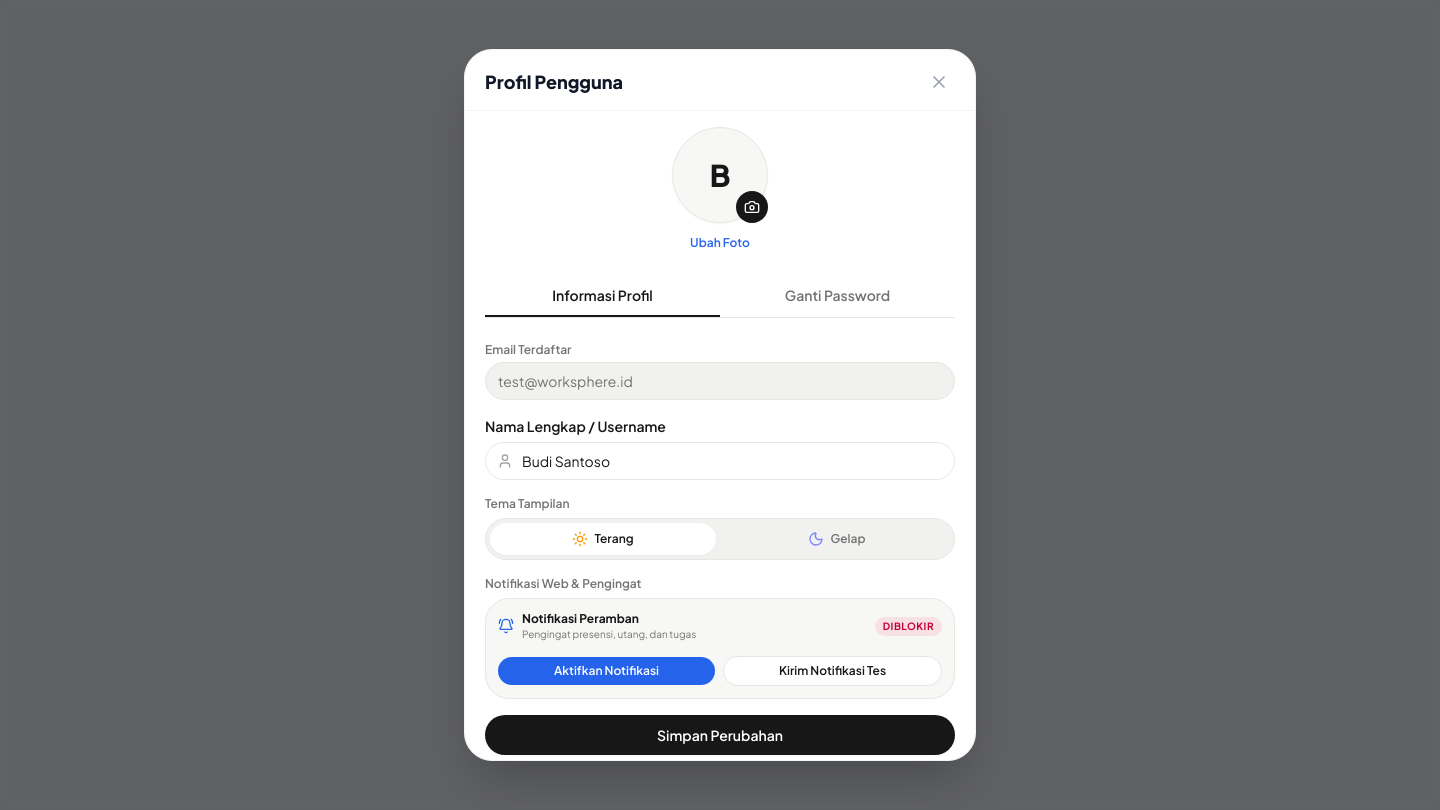
Scenario: ProfileModal › should switch between tabs
Click the button "Ganti Password".
click(838, 296)  # box top-left (720, 275), bottom-right (955, 317)
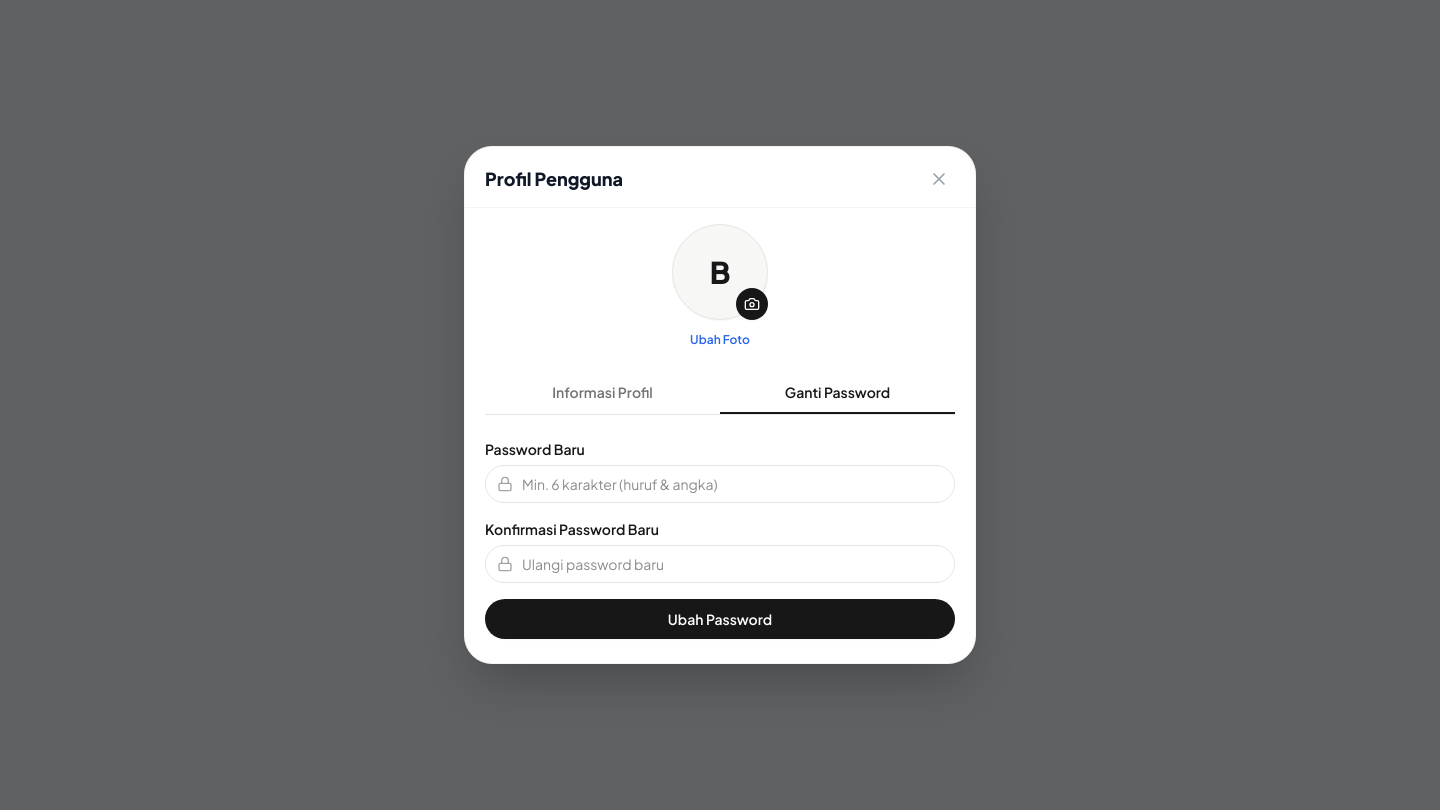
Now the password field labelled "Password Baru" is shown, box top-left (485, 465), bottom-right (955, 503)
Now the password field labelled "Konfirmasi Password Baru" is shown, box top-left (485, 545), bottom-right (955, 583)
Click the button "Informasi Profil".
click(602, 393)  # box top-left (485, 372), bottom-right (720, 414)
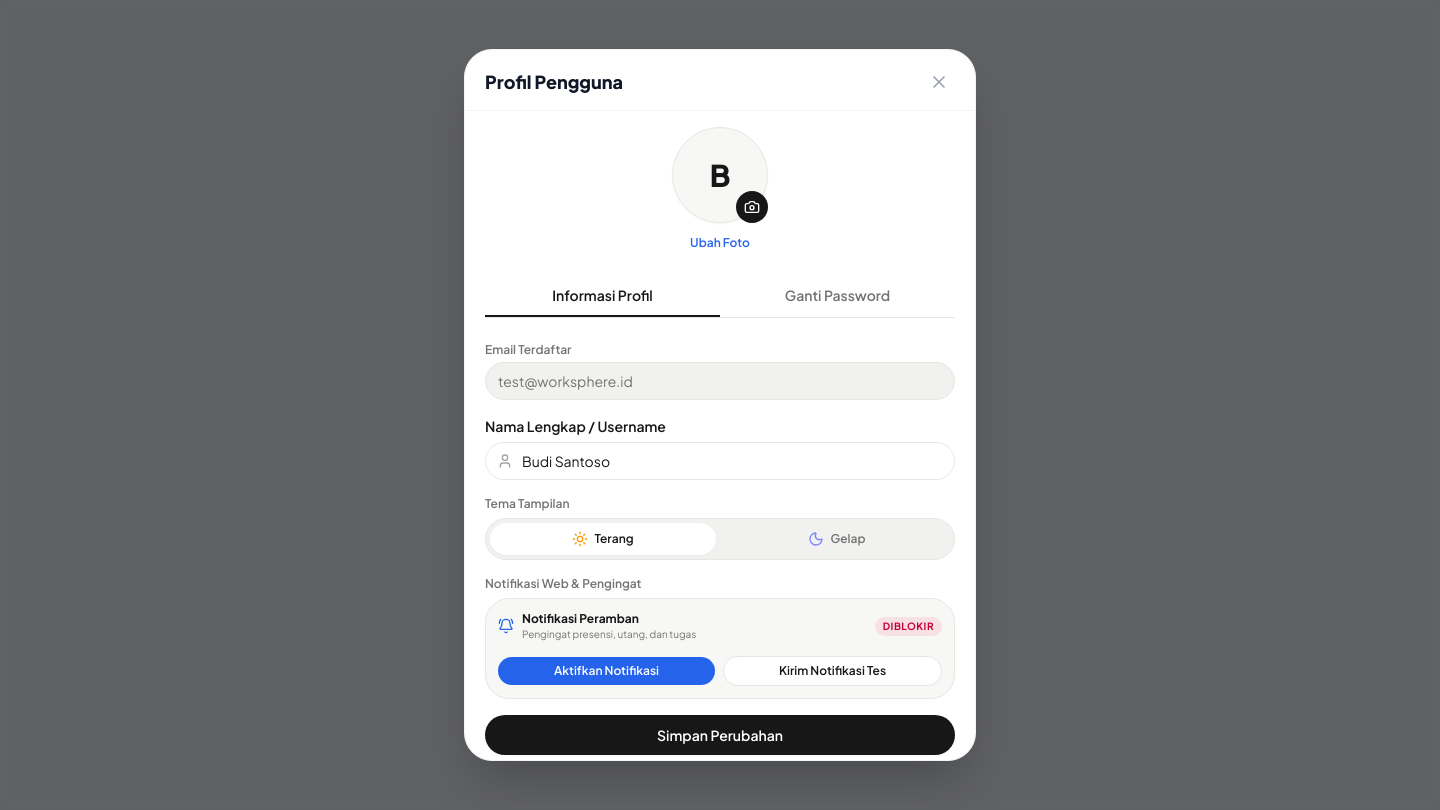
Now the field labelled "Nama Lengkap / Username" is shown, box top-left (485, 442), bottom-right (955, 480)
